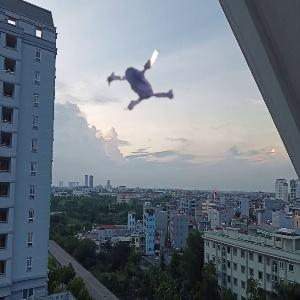drone: (96, 19, 205, 128)
